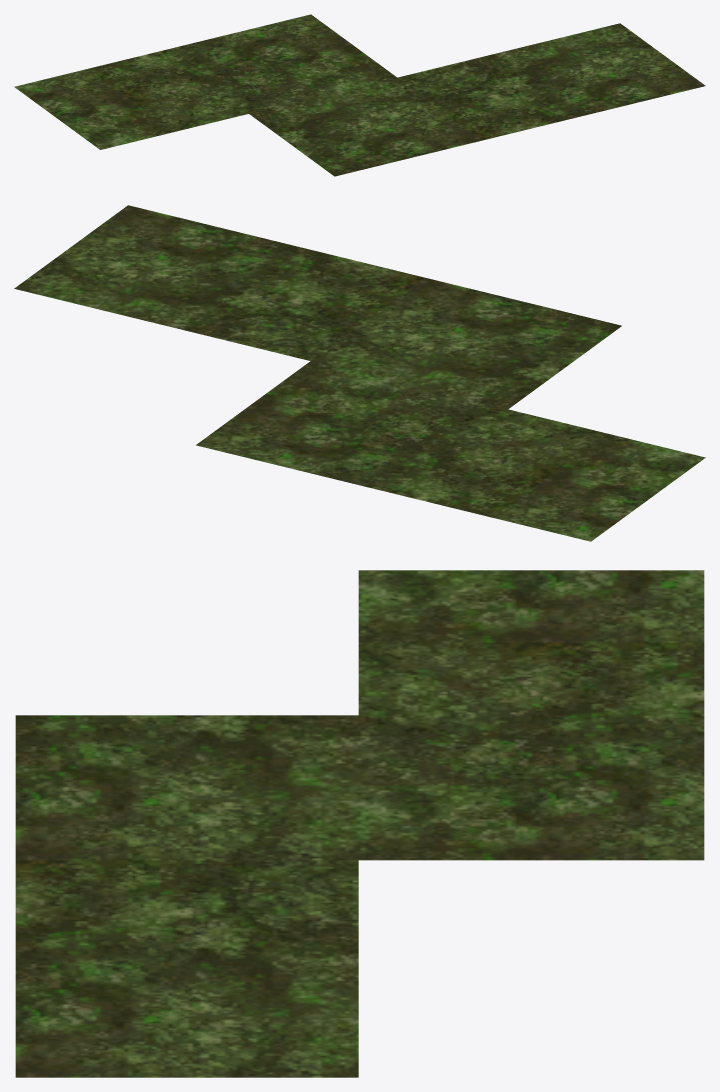
Rendered from OVERHILL_A_01_LINE178.fbx.
3 views of the same model, one above another, from view 1: azimuth 30°, elevation 25°; view 2: azimuth 150°, elevation 25°; view 3: azimuth 270°, elevation 25° (orthographic). The views are drawn at different scales.
Parts seen in each view (by area): view 1: OVERHILL_A_01_LINE178; view 2: OVERHILL_A_01_LINE178; view 3: OVERHILL_A_01_LINE178.
Part boxes in pixels (left/top/right/bottom): OVERHILL_A_01_LINE178: left=14, top=14, right=705, bottom=176; OVERHILL_A_01_LINE178: left=14, top=205, right=705, bottom=541; OVERHILL_A_01_LINE178: left=15, top=570, right=704, bottom=1077.
Bounding box in the file's own units: 70000 × 0.00654 × 40148.
Materials: 1 (1 with a texture image).
